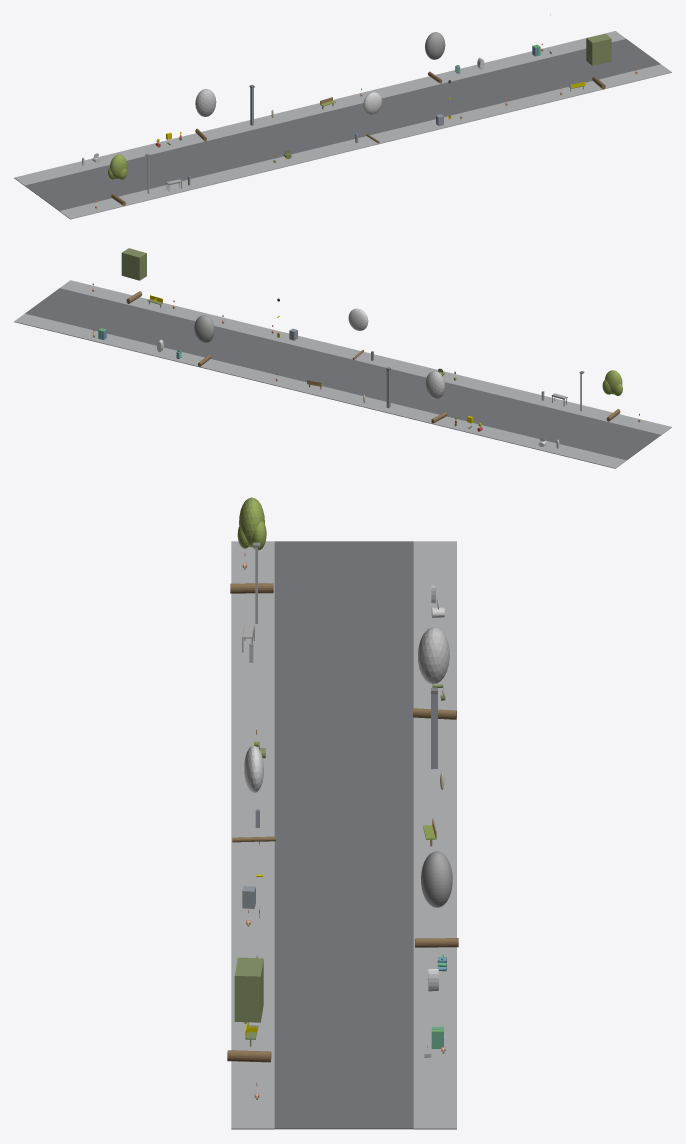
The picture shows the model from 3 angles, top to bottom: view 1: azimuth 30°, elevation 25°; view 2: azimuth 150°, elevation 25°; view 3: azimuth 270°, elevation 25°; orthographic projection. The views are drawn at different scales.
Parts seen in each view (by area): view 1: road_slab, sidewalk_left, sidewalk_right, inst_0016, inst_0013, inst_0015, inst_0012, inst_0014; view 2: road_slab, sidewalk_right, sidewalk_left, inst_0016, inst_0013, inst_0015, inst_0012, inst_0014; view 3: road_slab, sidewalk_left, sidewalk_right, inst_0016, inst_0015, inst_0013, inst_0012, inst_0014.
Part boxes in pixels (left/top/right/bottom): road_slab: left=25, top=39, right=660, bottom=211; sidewalk_left: left=59, top=64, right=671, bottom=219; sidewalk_right: left=14, top=31, right=625, bottom=185; inst_0016: left=586, top=34, right=611, bottom=89; inst_0013: left=195, top=89, right=216, bottom=141; inst_0015: left=425, top=32, right=445, bottom=83; inst_0012: left=108, top=154, right=127, bottom=205; inst_0014: left=363, top=92, right=381, bottom=143; road_slab: left=25, top=288, right=660, bottom=460; sidewalk_right: left=14, top=313, right=626, bottom=468; sidewalk_left: left=60, top=280, right=671, bottom=435; inst_0016: left=121, top=248, right=146, bottom=303; inst_0013: left=425, top=371, right=447, bottom=423; inst_0015: left=194, top=315, right=214, bottom=366; inst_0012: left=602, top=370, right=622, bottom=421; inst_0014: left=348, top=308, right=368, bottom=359; road_slab: left=274, top=541, right=413, bottom=1129; sidewalk_left: left=231, top=541, right=274, bottom=1129; sidewalk_right: left=413, top=541, right=456, bottom=1129; inst_0016: left=227, top=957, right=271, bottom=1062; inst_0015: left=415, top=851, right=458, bottom=947; inst_0013: left=413, top=627, right=456, bottom=719; inst_0012: left=230, top=497, right=273, bottom=593; inst_0014: left=232, top=745, right=275, bottom=842.
Size of the model in its own units: 80 by 6.08 by 13.32.
